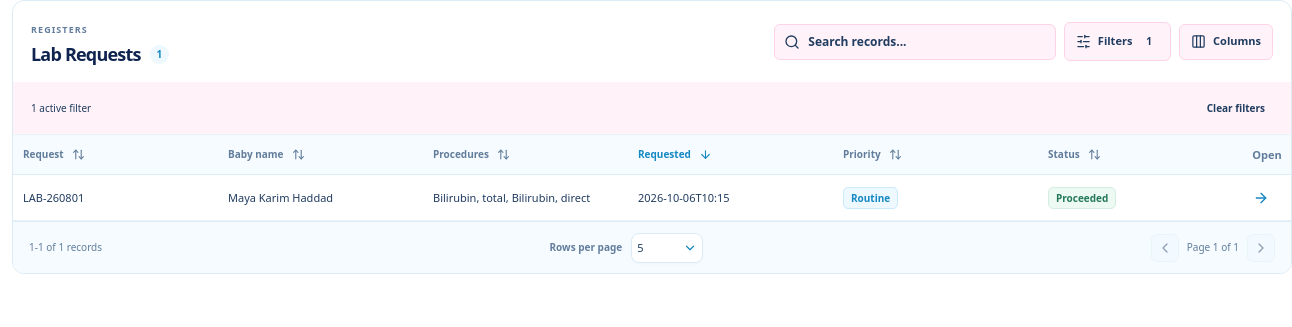
Test: shows proceeded requests and searches records
This screenshot has width=1292, height=327.
Expected: the message reads "1-1 of 1 records", [29, 240, 102, 255]
Type "missing" into the search field at x=915, y=42, box [774, 24, 1056, 60]
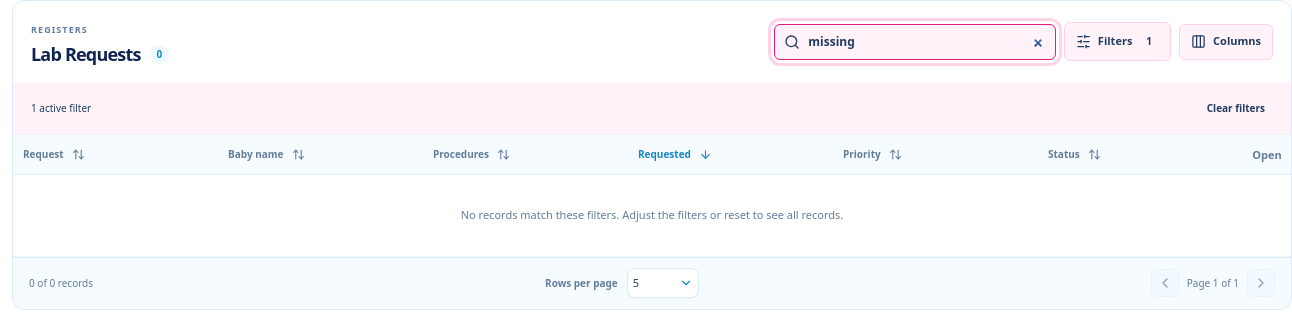
Expected: the text "No records match" is shown, [461, 207, 843, 222]
